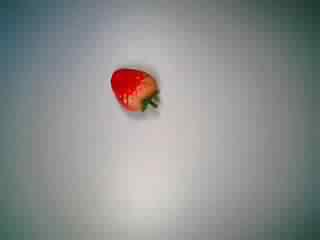strawberry: (96, 62, 169, 126)
